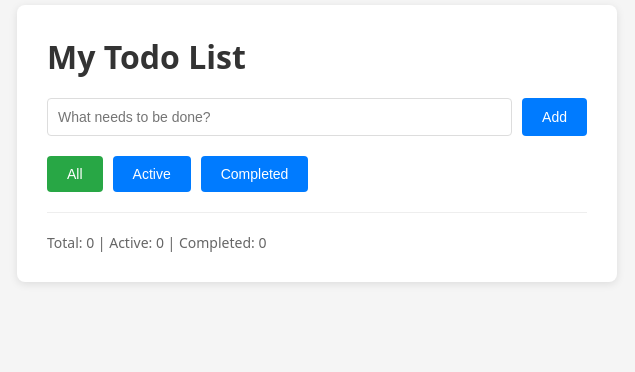
App › gives each control an accessible name
Step 1. Type "Buy milk" into the field named "New todo" → (280, 117), box [47,98,512,136]
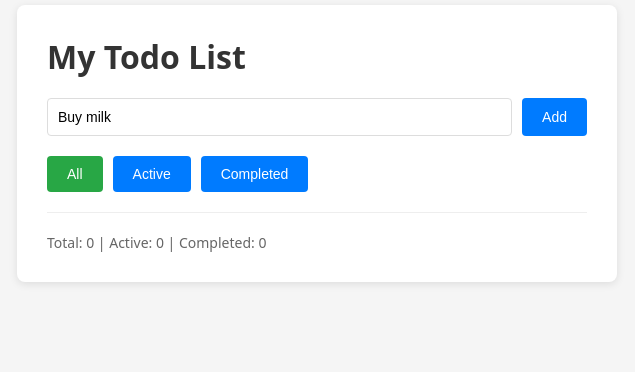
Step 2. Click the button "Add" → (555, 117), box [522,98,587,136]
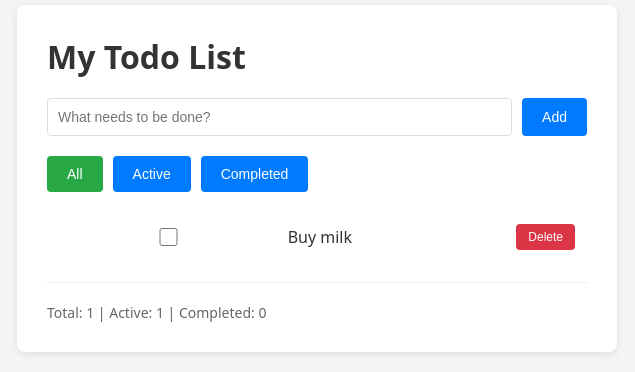
Now the checkbox named "Complete \"Buy milk\"" is shown, box [59,228,278,246]
Now the button named "Delete \"Buy milk\"" is shown, box [516,224,575,250]
